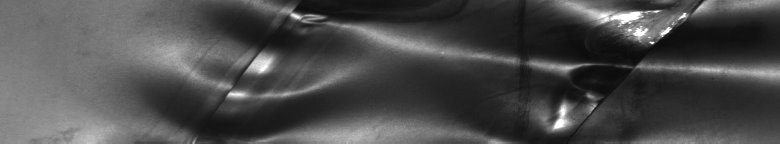ke: (180, 4, 776, 136)
